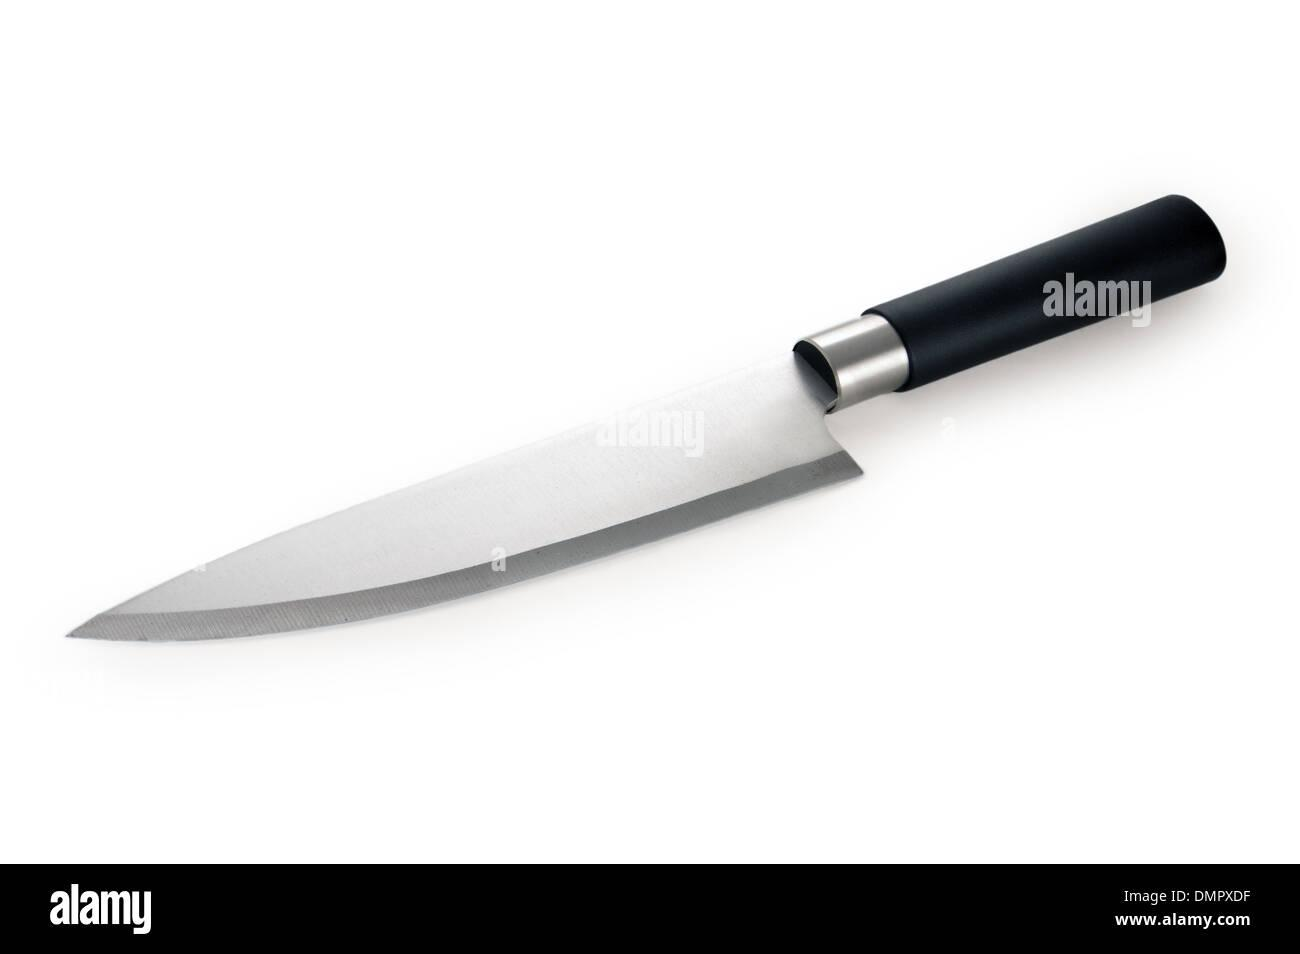Knife: (64, 190, 1226, 644)
